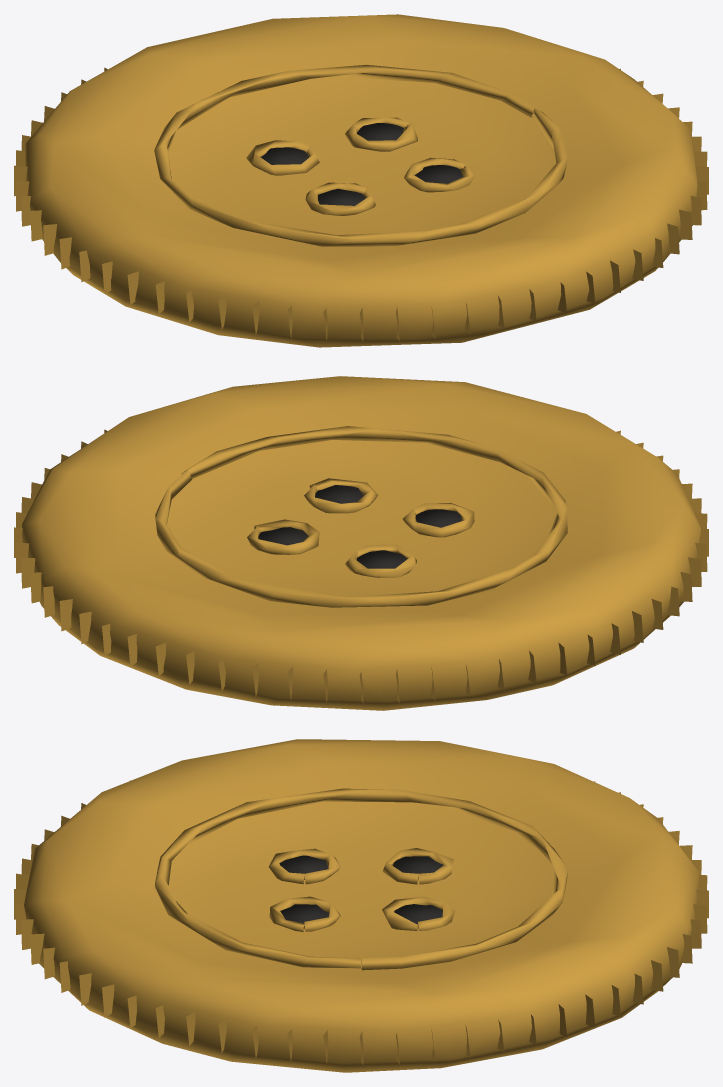
Rendered from snow_button_brass.glb.
The picture shows the model from 3 angles, top to bottom: view 1: azimuth 30°, elevation 25°; view 2: azimuth 150°, elevation 25°; view 3: azimuth 270°, elevation 25°; orthographic projection.
Parts seen in each view (by area): view 1: prop_snow_button_brass_brass, prop_snow_button_brass_felt; view 2: prop_snow_button_brass_brass, prop_snow_button_brass_felt; view 3: prop_snow_button_brass_brass, prop_snow_button_brass_felt.
Boxes of the visible parts, x1,y1,x2,y2 form: prop_snow_button_brass_brass: (14,14,708,347); prop_snow_button_brass_felt: (261,123,463,205); prop_snow_button_brass_brass: (14,376,708,710); prop_snow_button_brass_felt: (258,485,461,568); prop_snow_button_brass_brass: (14,739,708,1072); prop_snow_button_brass_felt: (279,855,443,924).
Size of the model in its own units: 0.432 by 0.0471 by 0.432.
2 materials, 1 textured.
